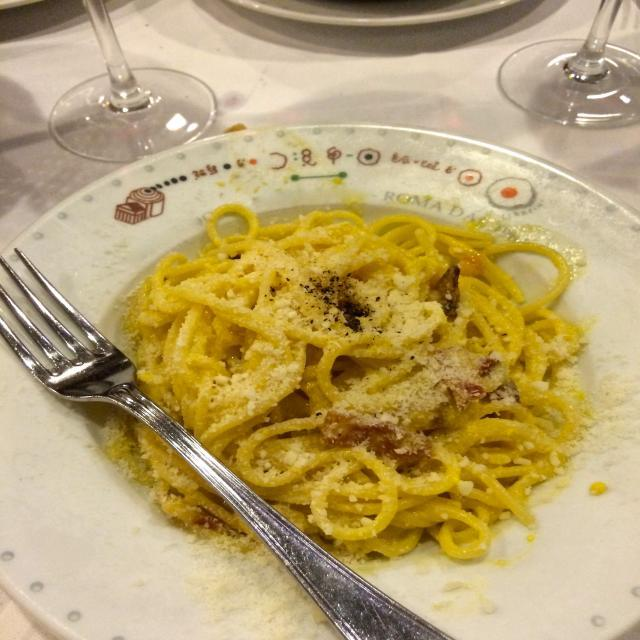Pasta with carbonara sauce: (51, 152, 612, 602)
